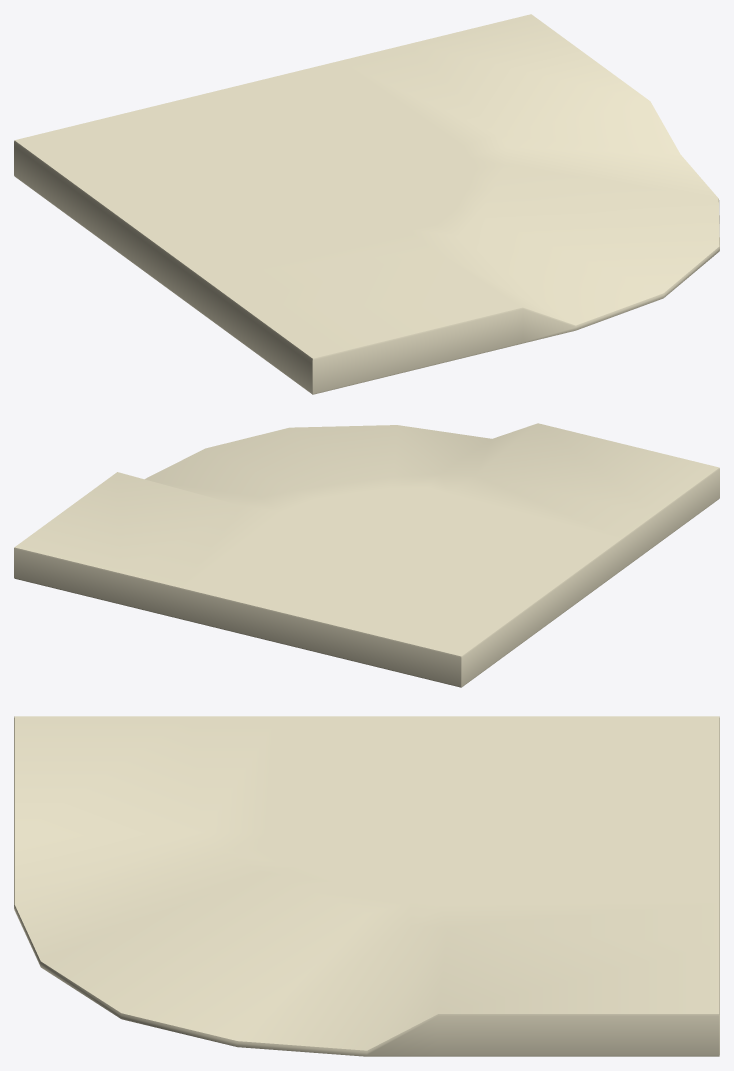
File: Sidewalk_Corner_Ramp_A.fbx
3 views of the same model, one above another, from view 1: azimuth 30°, elevation 25°; view 2: azimuth 150°, elevation 25°; view 3: azimuth 270°, elevation 25° (orthographic). The views are drawn at different scales.
Parts seen in each view (by area): view 1: Plane.006; view 2: Plane.006; view 3: Plane.006.
Part boxes in pixels (x1=…): Plane.006: x1=14, y1=14, x2=719, y2=394; Plane.006: x1=14, y1=423, x2=719, y2=687; Plane.006: x1=14, y1=716, x2=719, y2=1056.
Size of the model in its own units: 300 by 20 by 300.
